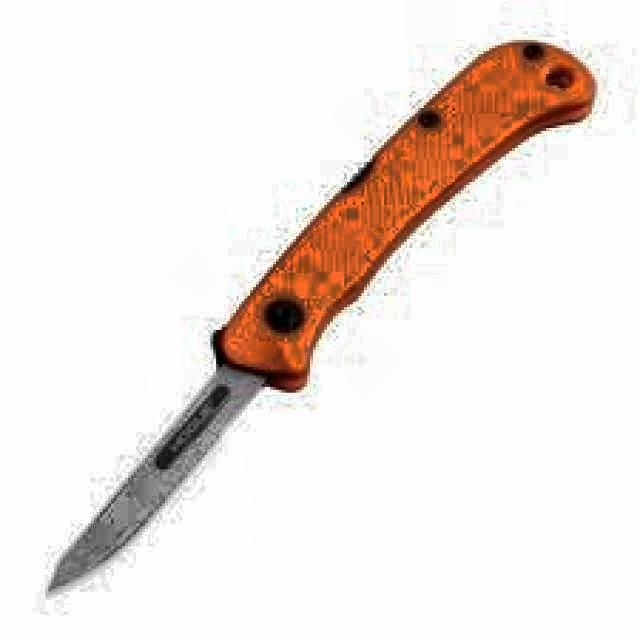knife: (38, 37, 600, 602)
